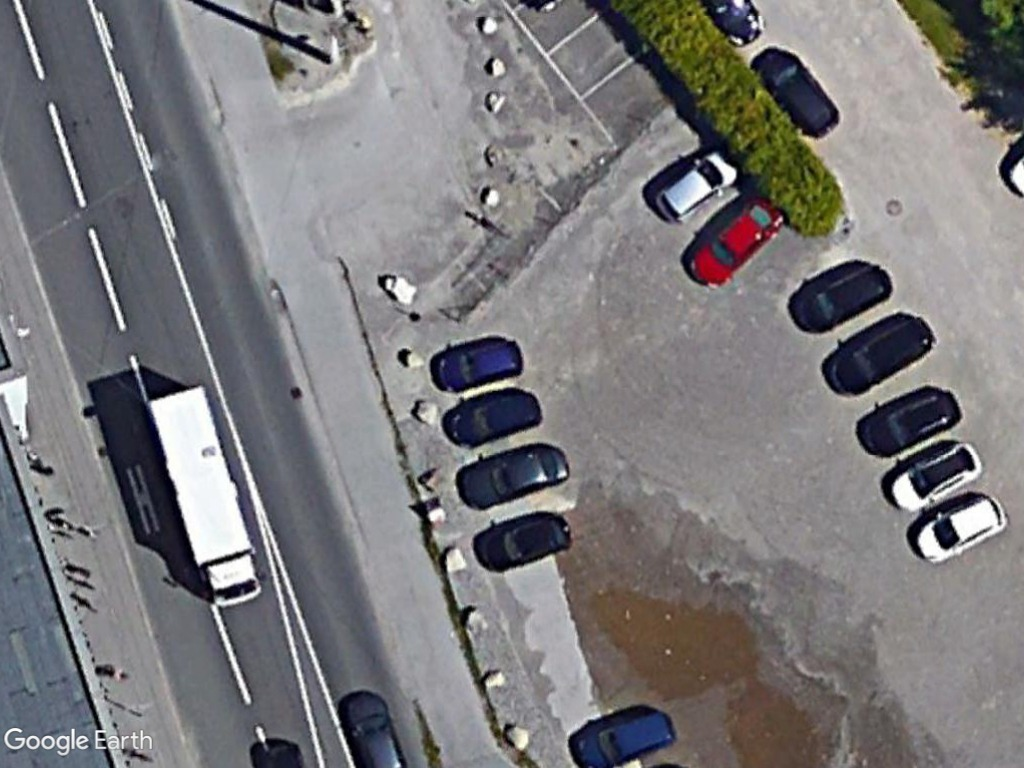car: (679, 186, 790, 290), (785, 252, 891, 340), (455, 435, 572, 513), (852, 384, 966, 464), (755, 48, 841, 143), (908, 486, 1007, 566), (650, 141, 739, 227), (883, 438, 980, 515), (565, 703, 677, 768), (442, 381, 543, 451), (428, 331, 525, 397)
truck: (141, 382, 268, 614)
